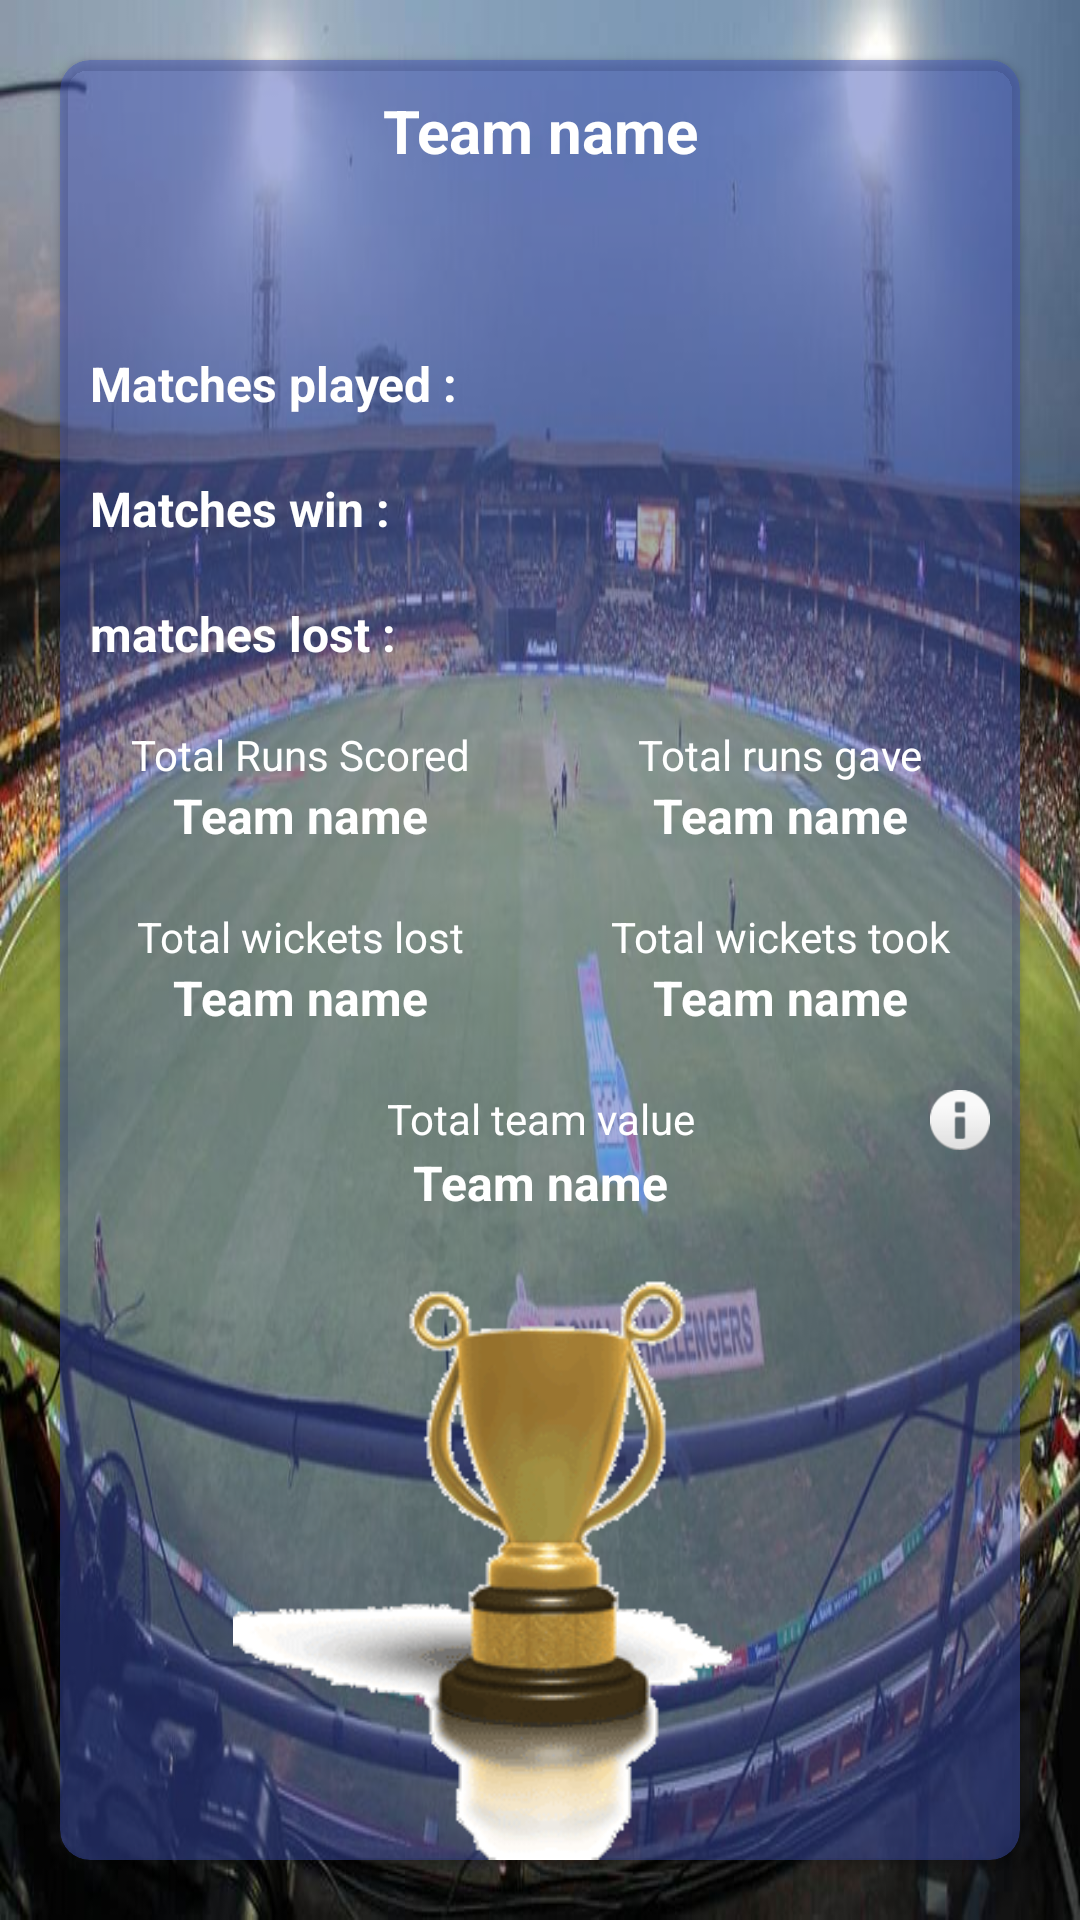

Where icons sit on this 1080w x 1920h app screen, as (x1, y1, x2, y2):
info: (930, 1090, 990, 1150)
